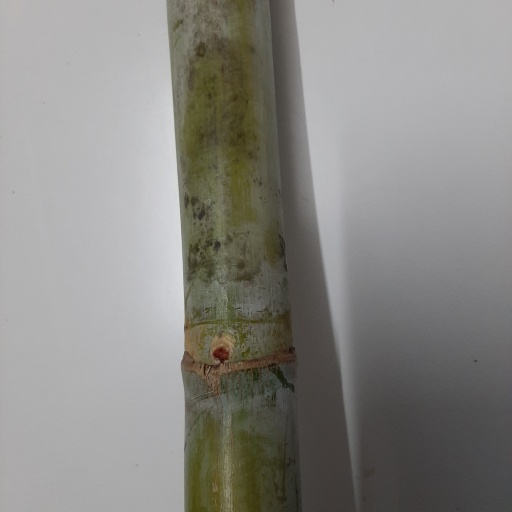Damage_Bud: (207, 333, 235, 365)
